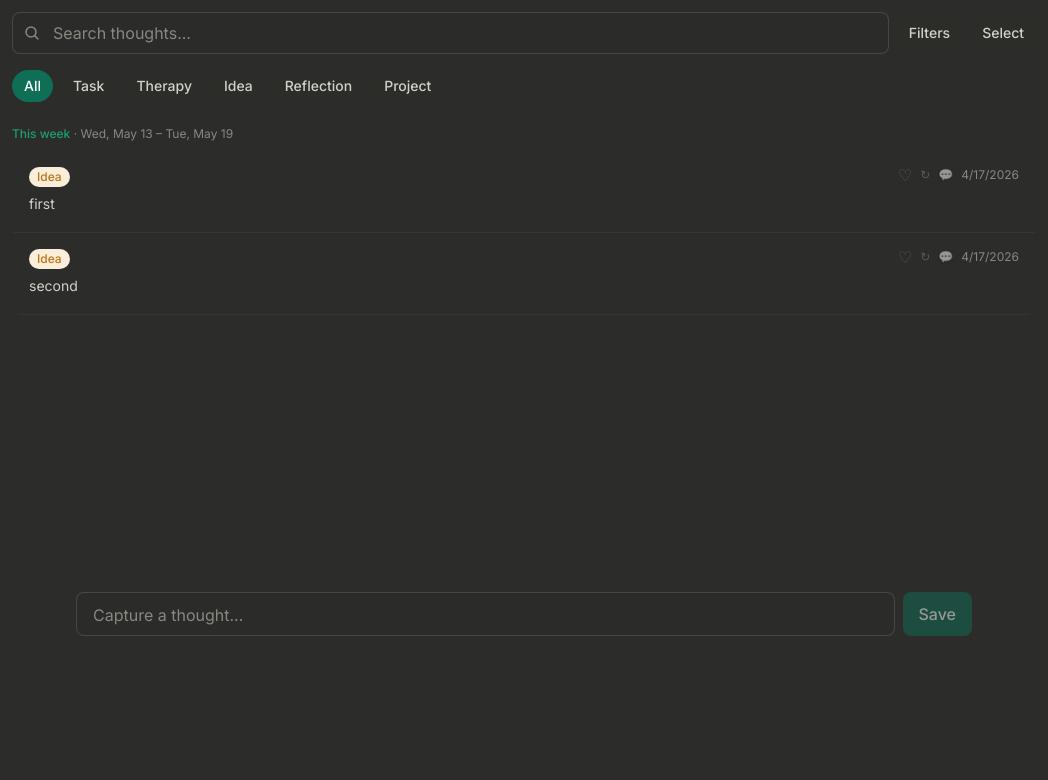
Test: ThoughtsPage — deferred-commit delete (Phase 101 D-15, D-16) › commits via bulkDeleteThoughts after 5s if no Undo (D-15)
Right-click the text "first" at (524, 192), box 13,151 -> 1035,233
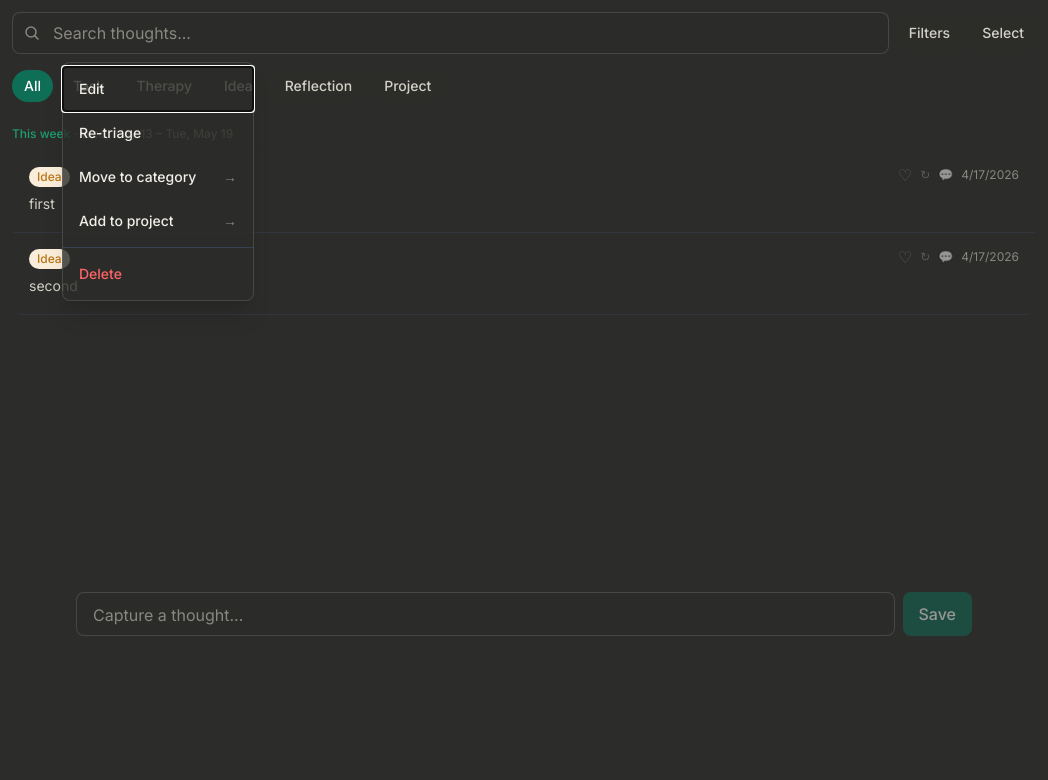
Click the menu item "Delete" at (158, 274), box 63,252 -> 253,296
Wait 5000 ms
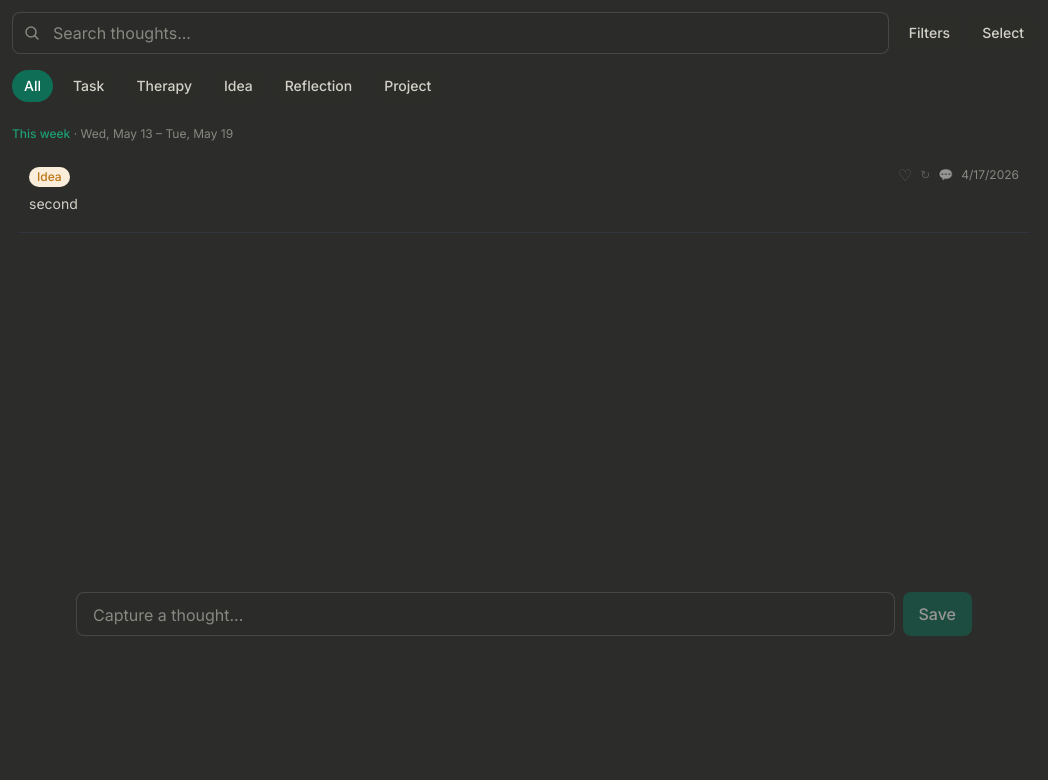
Now the text "first" is gone
